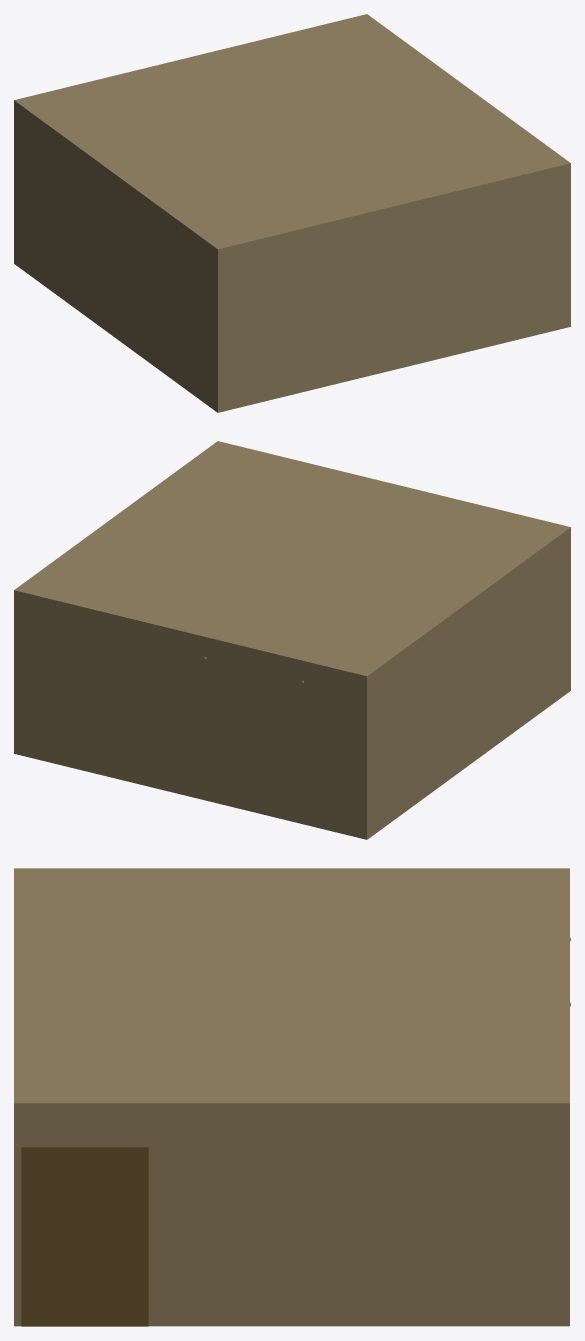
File: stage_room_16fbx.fbx
The picture shows the model from 3 angles, top to bottom: view 1: azimuth 30°, elevation 25°; view 2: azimuth 150°, elevation 25°; view 3: azimuth 270°, elevation 25°; orthographic projection. The views are drawn at different scales.
Visible parts, largest first — view 1: pPlane1; view 2: pPlane1; view 3: pPlane1, pCube16.
Boxes of the visible parts, x1=… form: pPlane1: x1=14, y1=14, x2=570, y2=412; pPlane1: x1=14, y1=441, x2=570, y2=839; pPlane1: x1=14, y1=868, x2=569, y2=1326; pCube16: x1=21, y1=1147, x2=148, y2=1326.
Bounding box in the file's own units: 180 × 79.66 × 180.
